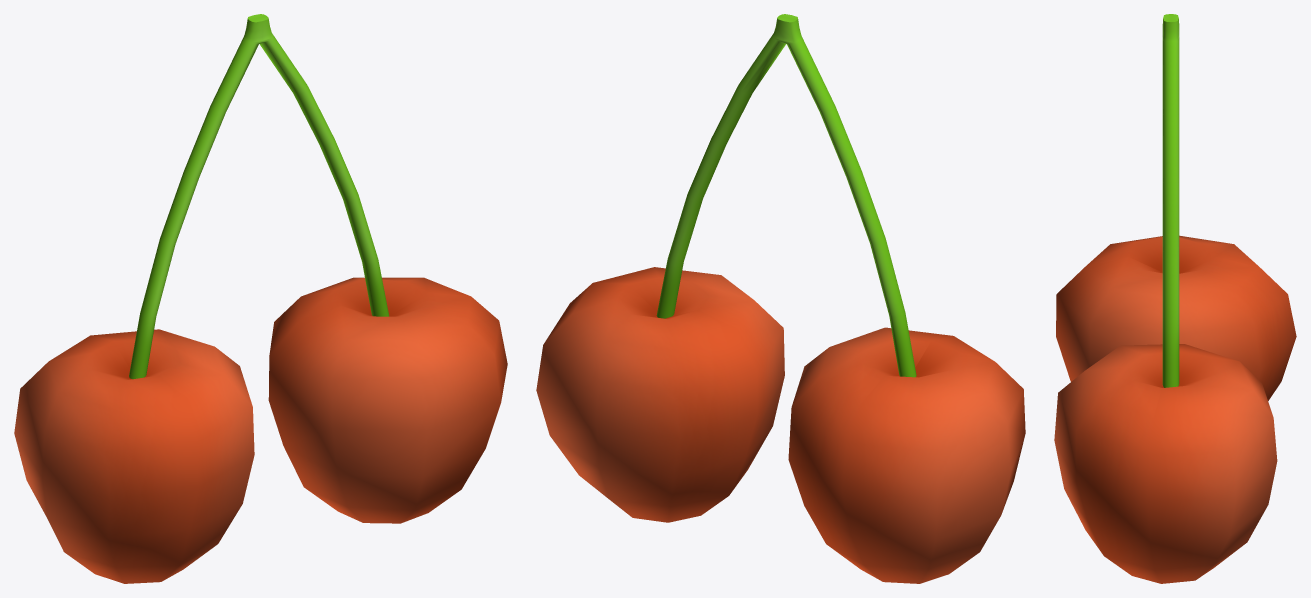
Rendered from cherry.FBX.
3 renders of one model, left to right at view 1: azimuth 30°, elevation 25°; view 2: azimuth 150°, elevation 25°; view 3: azimuth 270°, elevation 25°, orthographic. The views are drawn at different scales.
Parts seen in each view (by area): view 1: cherry; view 2: cherry; view 3: cherry.
Part boxes in pixels (box(x1,y1,x2,y2)): cherry: box(14, 14, 507, 583); cherry: box(536, 14, 1025, 583); cherry: box(1054, 14, 1296, 583).
Bounding box in the file's own units: 38.85 × 42.42 × 18.84.
